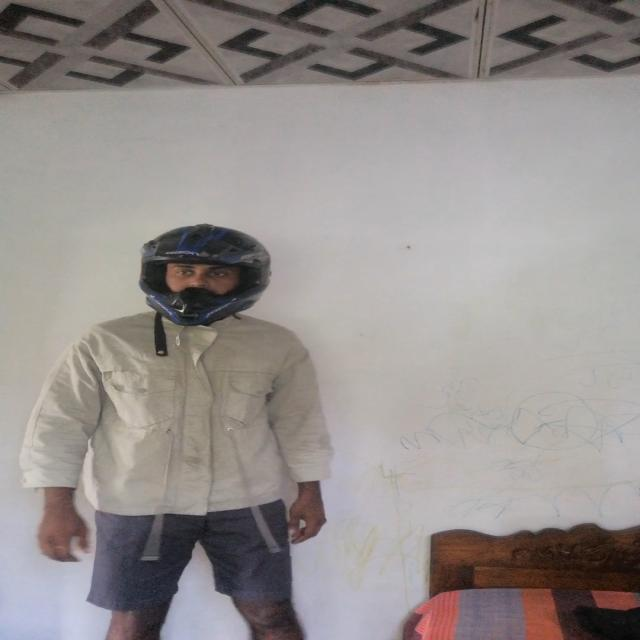Jacket_Wearer: (40, 302, 367, 542)
Person: (28, 215, 335, 640), (126, 221, 287, 342)
